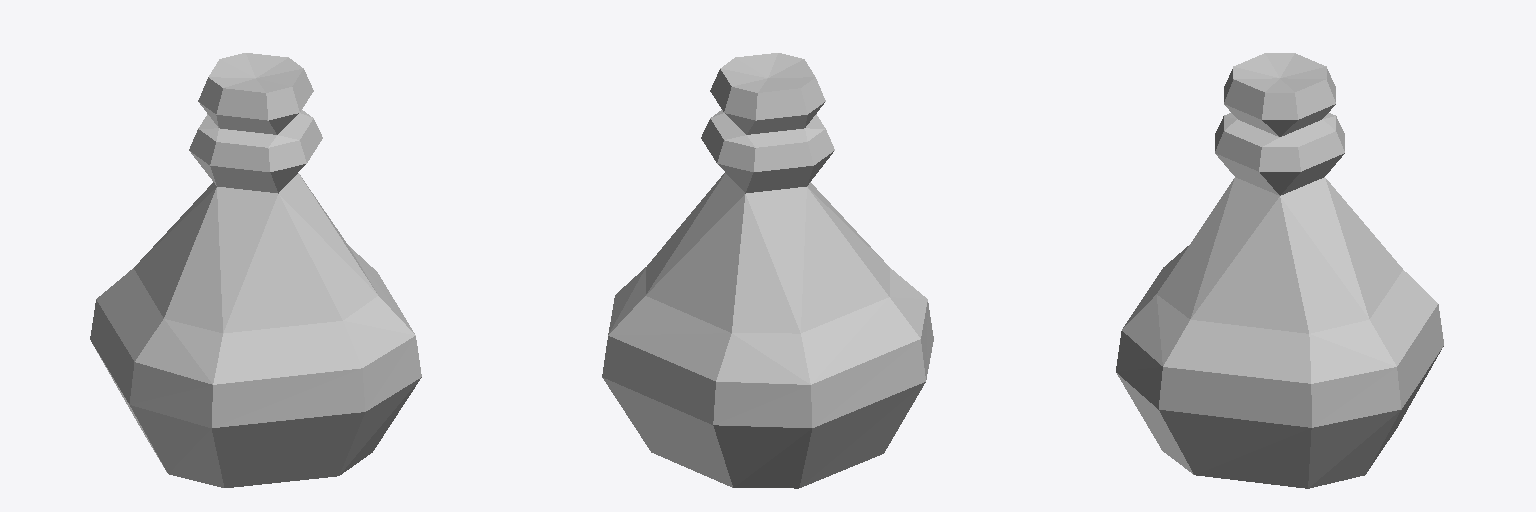
File: bottle_C_brown.obj
The picture shows the model from 3 angles: view 1: azimuth 30°, elevation 25°; view 2: azimuth 150°, elevation 25°; view 3: azimuth 270°, elevation 25°; orthographic projection.
Visible parts, largest first — view 1: bottle_C_brown_Cube.14528; view 2: bottle_C_brown_Cube.14528; view 3: bottle_C_brown_Cube.14528.
Boxes of the visible parts, <box> form: bottle_C_brown_Cube.14528: <box>90,53,421,487</box>; bottle_C_brown_Cube.14528: <box>602,53,933,488</box>; bottle_C_brown_Cube.14528: <box>1116,53,1443,488</box>.
Bounding box in the file's own units: 0.737 × 0.9062 × 0.737.